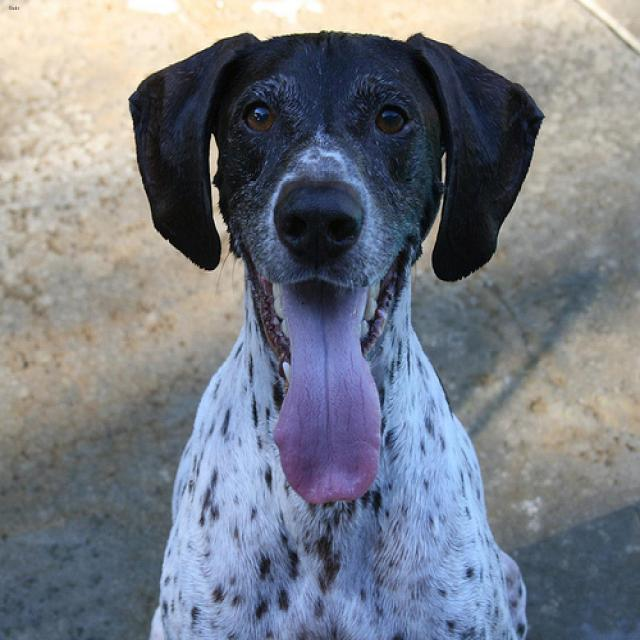dog-german_shorthaired: (120, 16, 550, 637)
